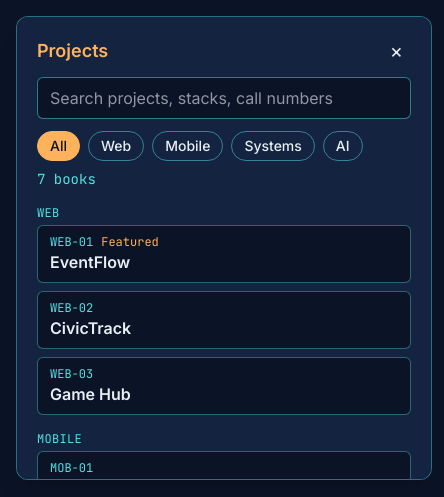
LibraryPanel › leaves from its close button, and starts the next visit at the full shelf
Type "react" into the search field at (224, 98), box [37, 77, 411, 119]
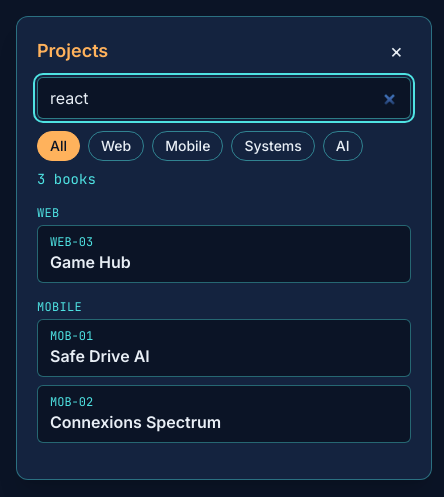
Click the button named "Leave station" at (396, 51), box [382, 37, 411, 65]
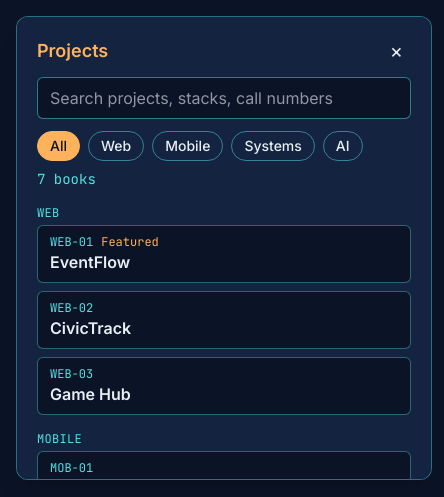
Now the search field is empty, box [37, 77, 411, 119]
Now the message reads "7 books", box [37, 170, 96, 188]
